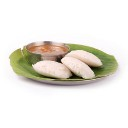idly: (63, 56, 95, 80), (31, 59, 71, 78), (70, 46, 106, 67)
